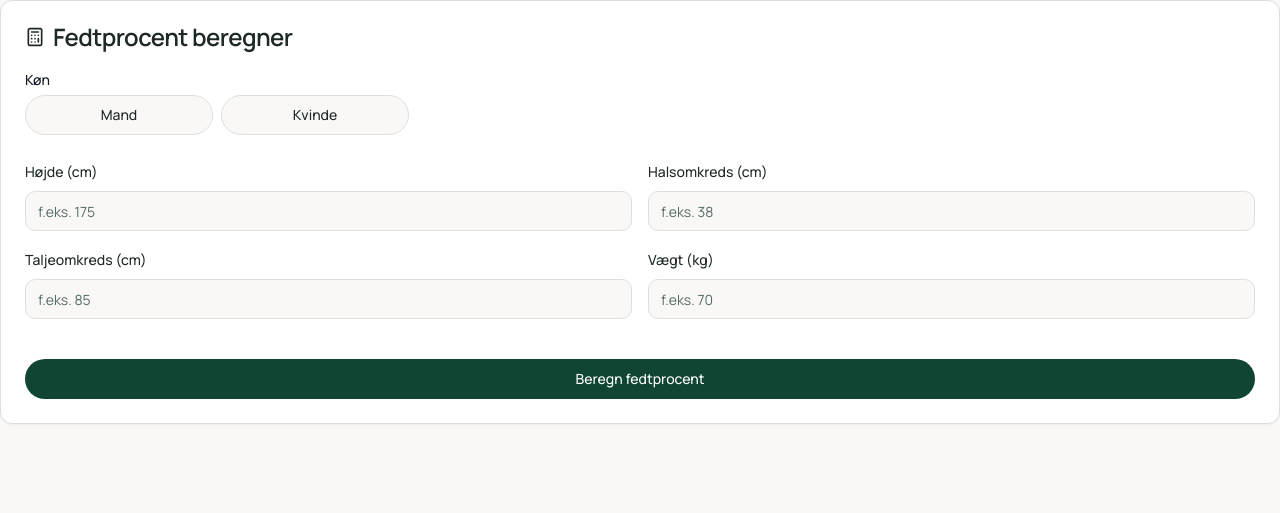
Test: BodyFatCalculator › keeps the calculate button enabled and names the missing fields
Click the button "Beregn fedtprocent": click(640, 379) [25,359,1255,399]
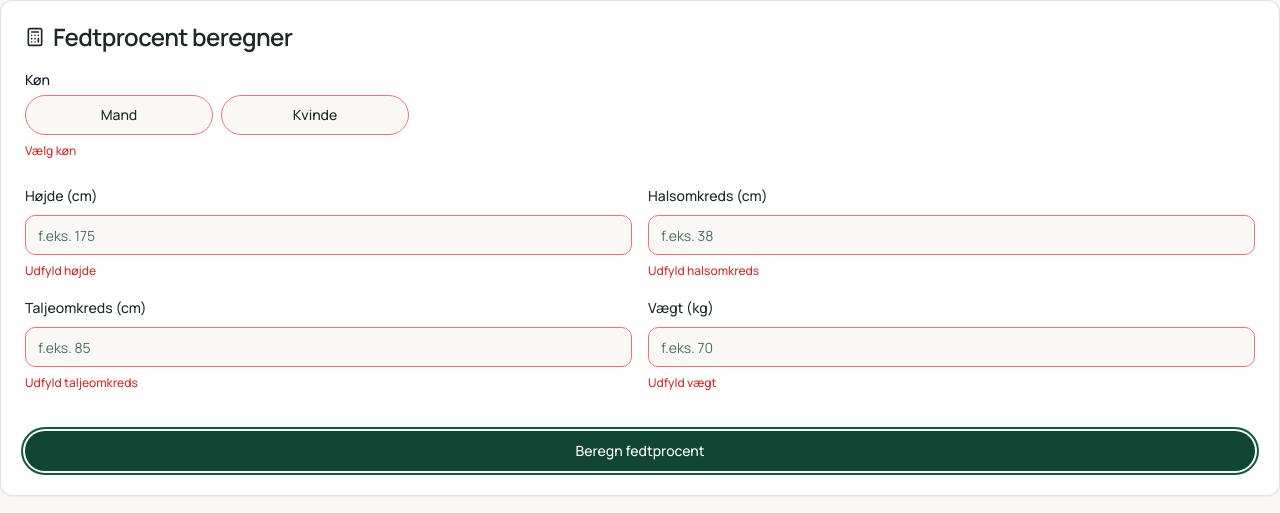
expect the text "Vælg køn" is shown: met, box [25,142,76,159]
expect the text "Udfyld højde" is shown: met, box [25,262,96,279]
expect the text "Udfyld halsomkreds" is shown: met, box [648,262,759,279]
